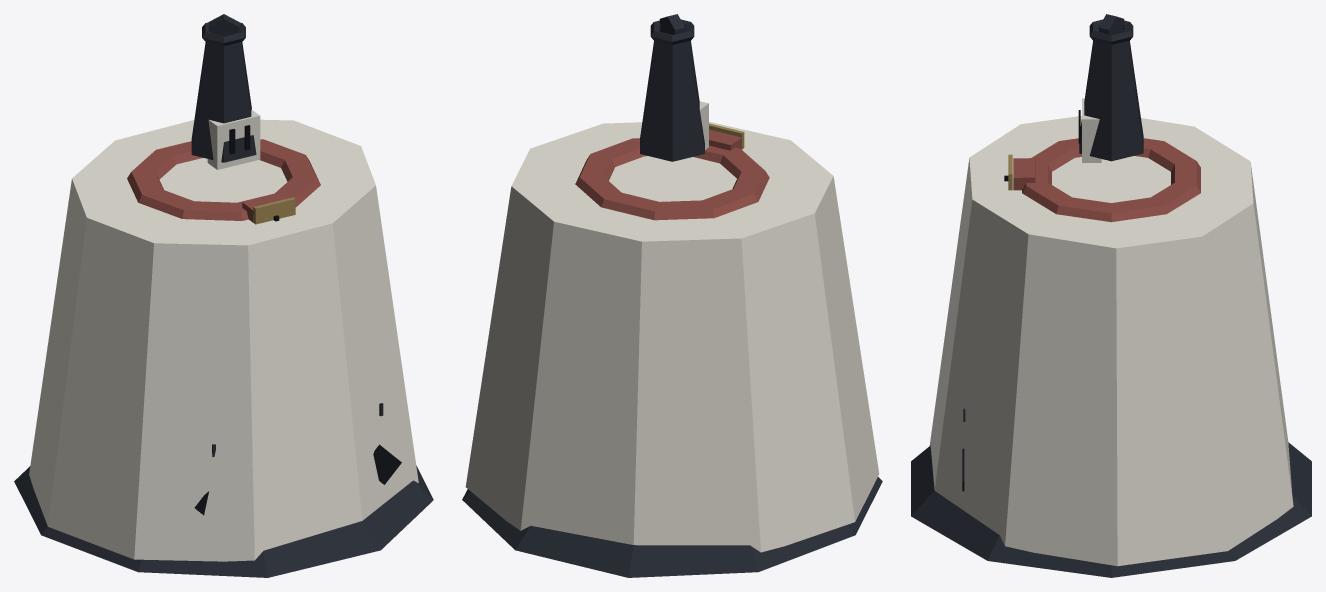
The model's file is armfree-bell-early-v1.glb.
The picture shows the model from 3 angles, left to right: view 1: azimuth 30°, elevation 25°; view 2: azimuth 150°, elevation 25°; view 3: azimuth 270°, elevation 25°; orthographic projection.
Parts seen in each view (by area): view 1: Arm-Free Concepts - Bell - Early Study; view 2: Arm-Free Concepts - Bell - Early Study; view 3: Arm-Free Concepts - Bell - Early Study.
Part boxes in pixels (x1=…): Arm-Free Concepts - Bell - Early Study: x1=14, y1=14, x2=433, y2=577; Arm-Free Concepts - Bell - Early Study: x1=462, y1=14, x2=882, y2=577; Arm-Free Concepts - Bell - Early Study: x1=911, y1=14, x2=1311, y2=577.
Size of the model in its own units: 3.84 by 5.02 by 3.65.
